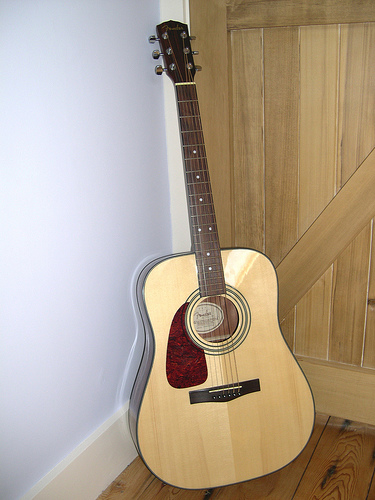guitar: (121, 16, 318, 488)
